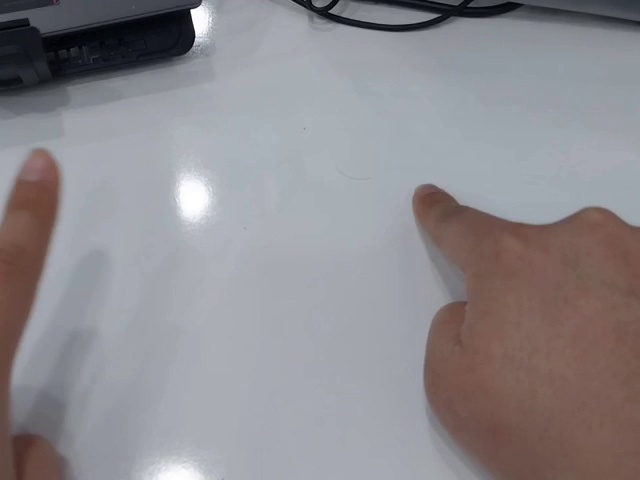fingers: (11, 145, 61, 207), (410, 182, 459, 229)
